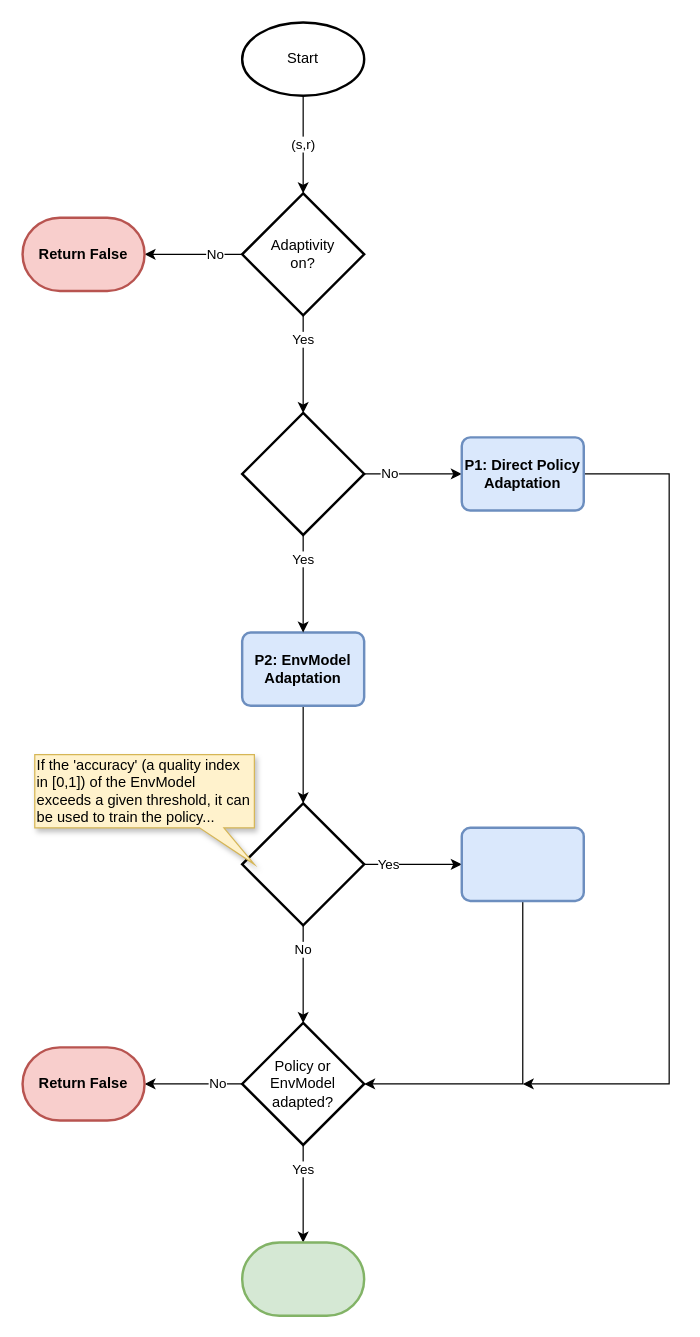
The diagram is 700 pixels wide and 1337 high, and some of its shapes have lost their labels. The shapes that lost their labels are listed below. From the top down, each one's centre as x and y in pixels, then its label:
(x=302, y=473): Model-based Adaptation?
(x=302, y=864): EnvModel 'accuracy' ok?
(x=522, y=864): P3: Policy Adaptation with EnvModel
(x=302, y=1278): Return True
